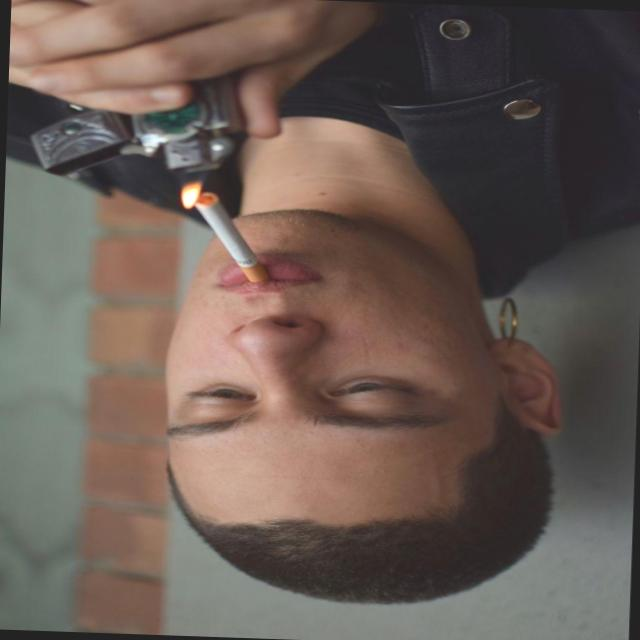smoke: (191, 177, 274, 294)
